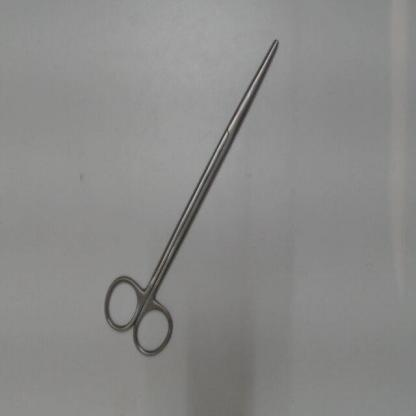9 Metzenbaum Scissors: (95, 32, 283, 368)
